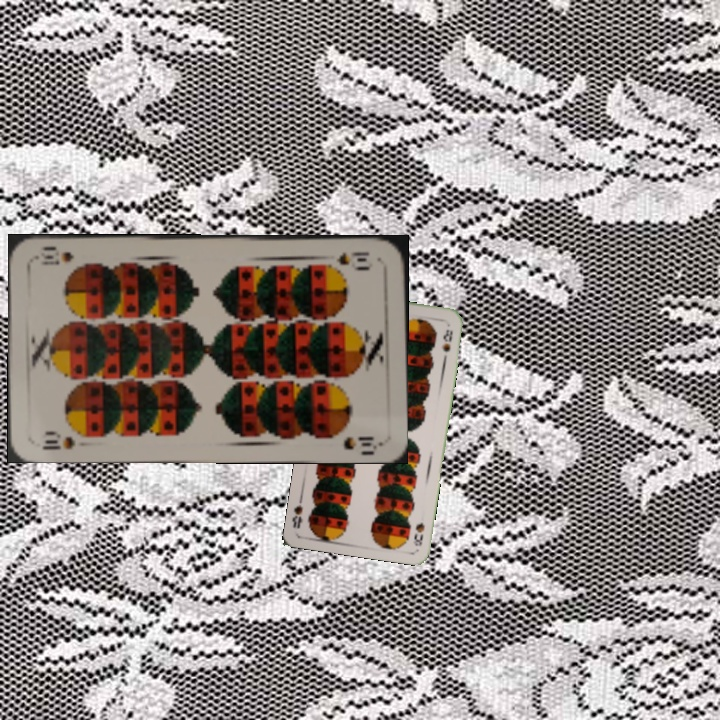S10: (38, 427, 77, 452), (334, 248, 375, 269)
S8: (409, 518, 427, 549)
